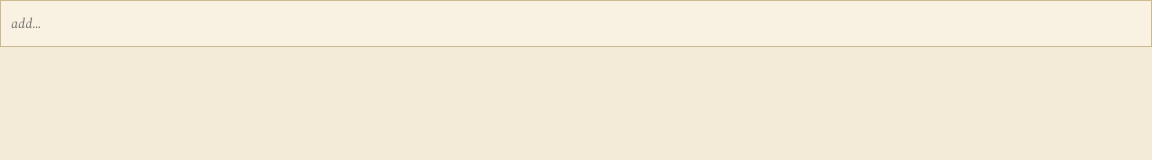
Scenario: ChipField filtering › says there are no matches when the vocabulary is closed
Step 1. Type "Nobody" into the dropdown named "Allies" → point(576, 24), box x1=11 y1=8 x2=1141 y2=39
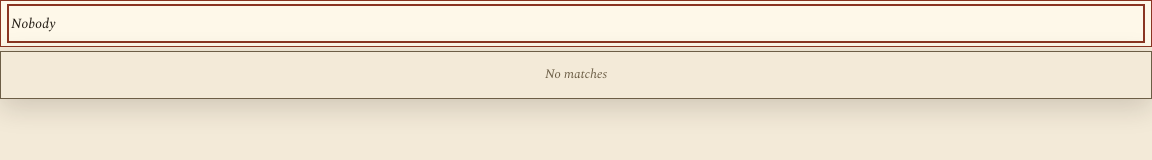
Now the list reads "No matches", box x1=545 y1=64 x2=607 y2=84
